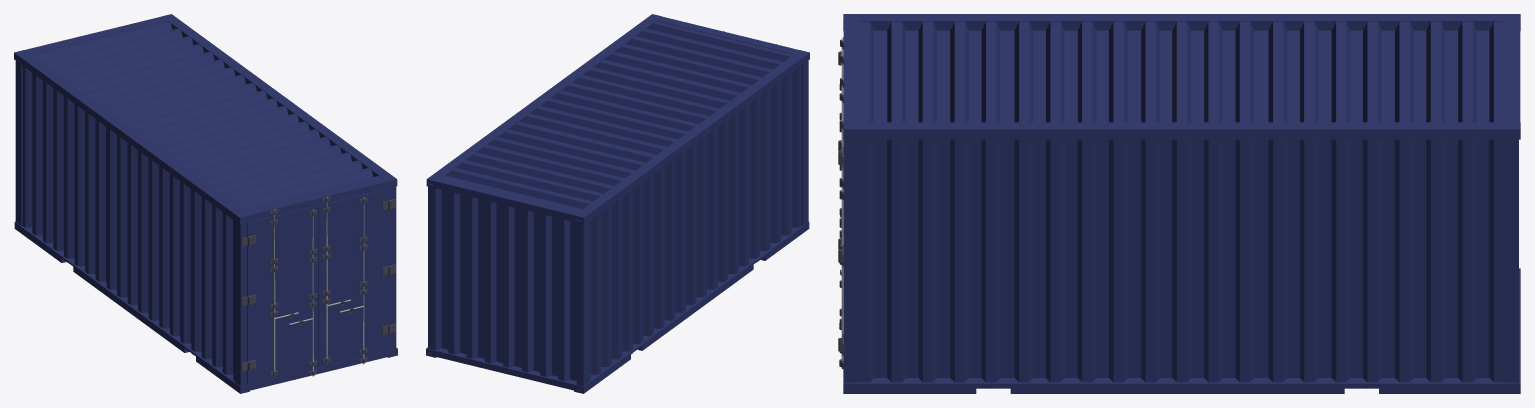
Rendered from shippingContainer.obj.
3 views of the same model, side by side, from view 1: azimuth 30°, elevation 25°; view 2: azimuth 150°, elevation 25°; view 3: azimuth 270°, elevation 25° (orthographic). The views are drawn at different scales.
Visible parts, largest first — view 1: BezierCurve.003, BezierCurve.002_Mesh.005, Cube_Cube.001, sweethome3d_opening_on_hinge_2_door_right, sweethome3d_opening_on_hinge_1_door_left, sweethome3d_opening_on_hinge_2_bars_right, sweethome3d_opening_on_hinge_1_bars_left; view 2: BezierCurve.003, BezierCurve.002_Mesh.005, Cube_Cube.001; view 3: BezierCurve.003, BezierCurve.002_Mesh.005, Cube_Cube.001, sweethome3d_opening_on_hinge_2_door_right, sweethome3d_opening_on_hinge_2_bars_right.
Boxes of the visible parts, <box> form: BezierCurve.003: <box>22,66,234,380</box>; BezierCurve.002_Mesh.005: <box>30,21,380,210</box>; Cube_Cube.001: <box>14,14,397,393</box>; sweethome3d_opening_on_hinge_2_door_right: <box>318,188,391,367</box>; sweethome3d_opening_on_hinge_1_door_left: <box>247,205,318,384</box>; sweethome3d_opening_on_hinge_2_bars_right: <box>326,197,364,364</box>; sweethome3d_opening_on_hinge_1_bars_left: <box>274,209,313,376</box>; BezierCurve.003: <box>435,65,801,383</box>; BezierCurve.002_Mesh.005: <box>443,21,793,210</box>; Cube_Cube.001: <box>426,14,809,393</box>; BezierCurve.003: <box>861,139,1501,387</box>; BezierCurve.002_Mesh.005: <box>860,21,1503,122</box>; Cube_Cube.001: <box>838,14,1520,393</box>; sweethome3d_opening_on_hinge_2_door_right: <box>838,88,844,376</box>; sweethome3d_opening_on_hinge_2_bars_right: <box>841,77,843,368</box>.
Size of the model in its own units: 243 by 259 by 606.
